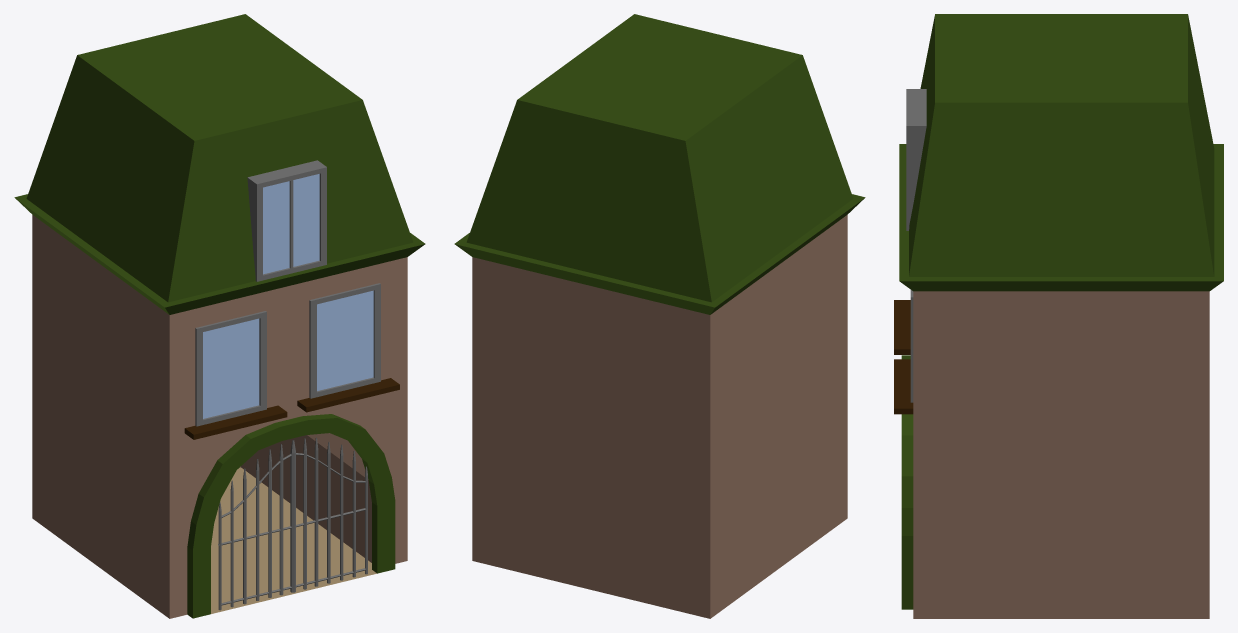
Rendered from House4Fixed.fbx.
3 views of the same model, side by side, from view 1: azimuth 30°, elevation 25°; view 2: azimuth 150°, elevation 25°; view 3: azimuth 270°, elevation 25° (orthographic). The views are drawn at different scales.
Parts seen in each view (by area): view 1: House4Lvl1; view 2: House4Lvl1; view 3: House4Lvl1.
Part boxes in pixels (box(x1,y1,x2,y2)): House4Lvl1: box(14, 14, 425, 618); House4Lvl1: box(454, 14, 865, 618); House4Lvl1: box(894, 14, 1223, 618).
Bounding box in the file's own units: 76.54 × 130 × 77.75.
